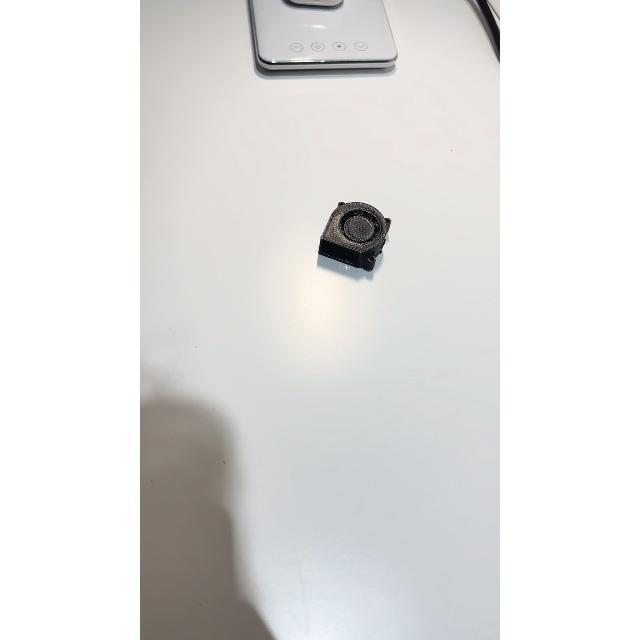Pieza3: (312, 194, 402, 280)
